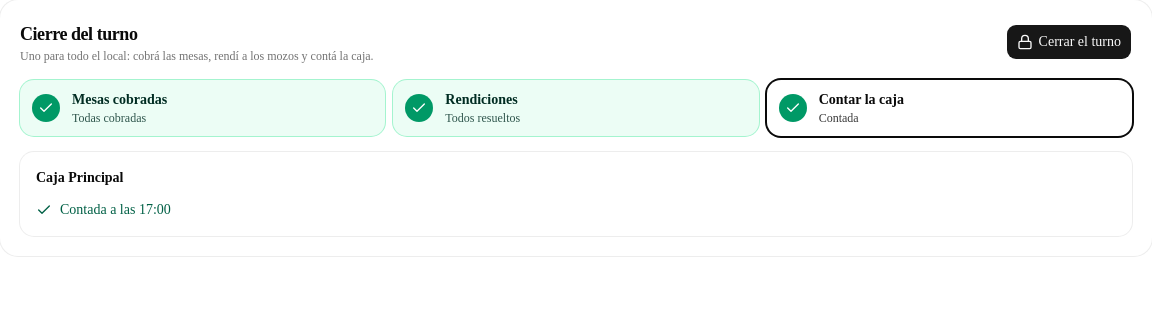
Test: CierreDelTurno › con todo resuelto › «Cerrar el turno» pide confirmación antes de cerrar
Check: the text "Todas cobradas" is shown, box [72,111,146,125]
Check: the text "Todos resueltos" is shown, box [445,110,520,126]
Click the button at (1069, 42), box [1006,24,1132,60]
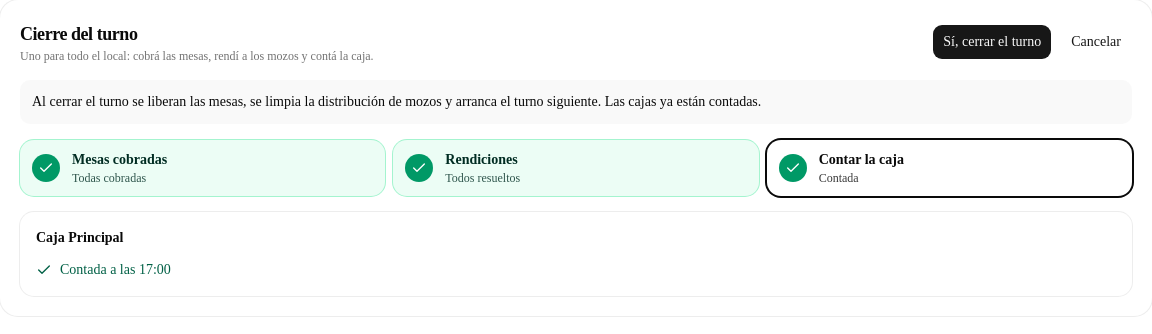
Check: the text "Al cerrar el turno se liberan las mesas" is shown, box [32,94,761,109]
Check: the button "Sí, cerrar el turno" is shown, box [932,24,1052,60]
